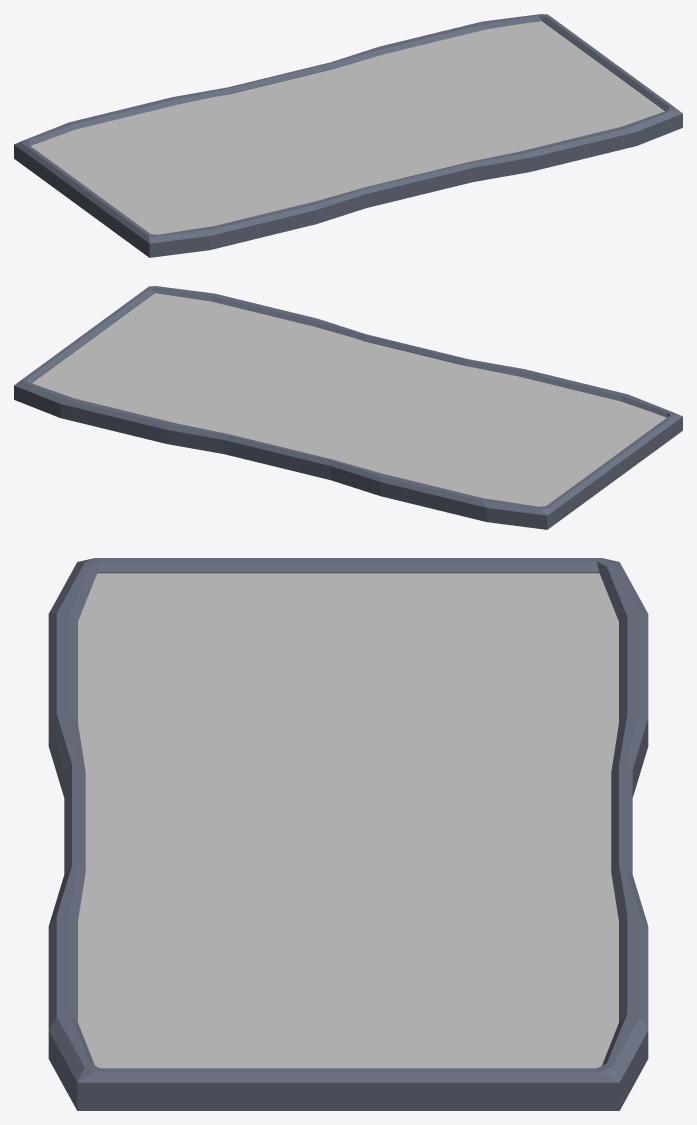
File: Ecran.fbx
3 renders of one model, top to bottom at view 1: azimuth 30°, elevation 25°; view 2: azimuth 150°, elevation 25°; view 3: azimuth 270°, elevation 25°, orthographic. The views are drawn at different scales.
Parts seen in each view (by area): view 1: Ecran; view 2: Ecran; view 3: Ecran.
Part boxes in pixels (<box>): Ecran: <box>14,14,682,257</box>; Ecran: <box>14,286,682,529</box>; Ecran: <box>48,558,648,1110</box>.
Bounding box in the file's own units: 85.56 × 2.74 × 41.65.
